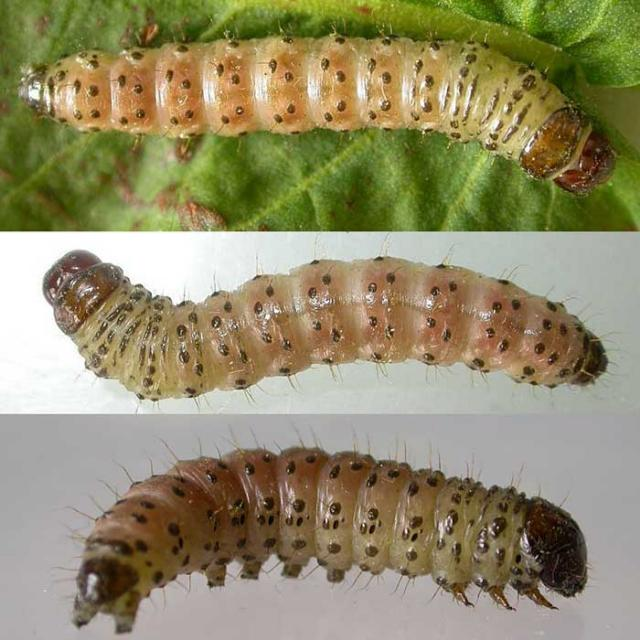cornborer-Larva-: (42, 438, 617, 631), (10, 30, 622, 205), (14, 240, 611, 404)
